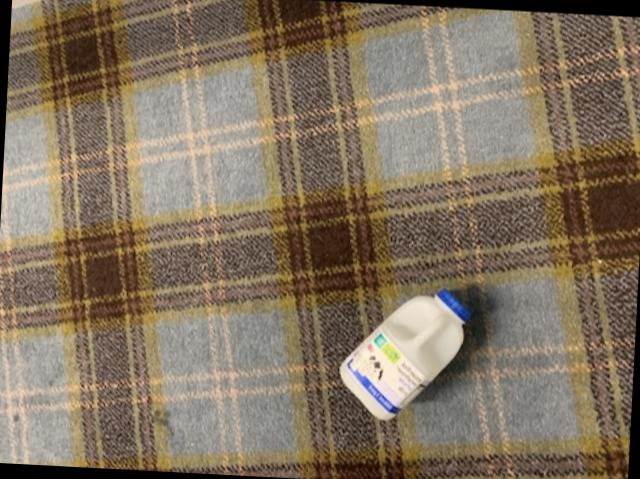plastic: (343, 289, 471, 417)
